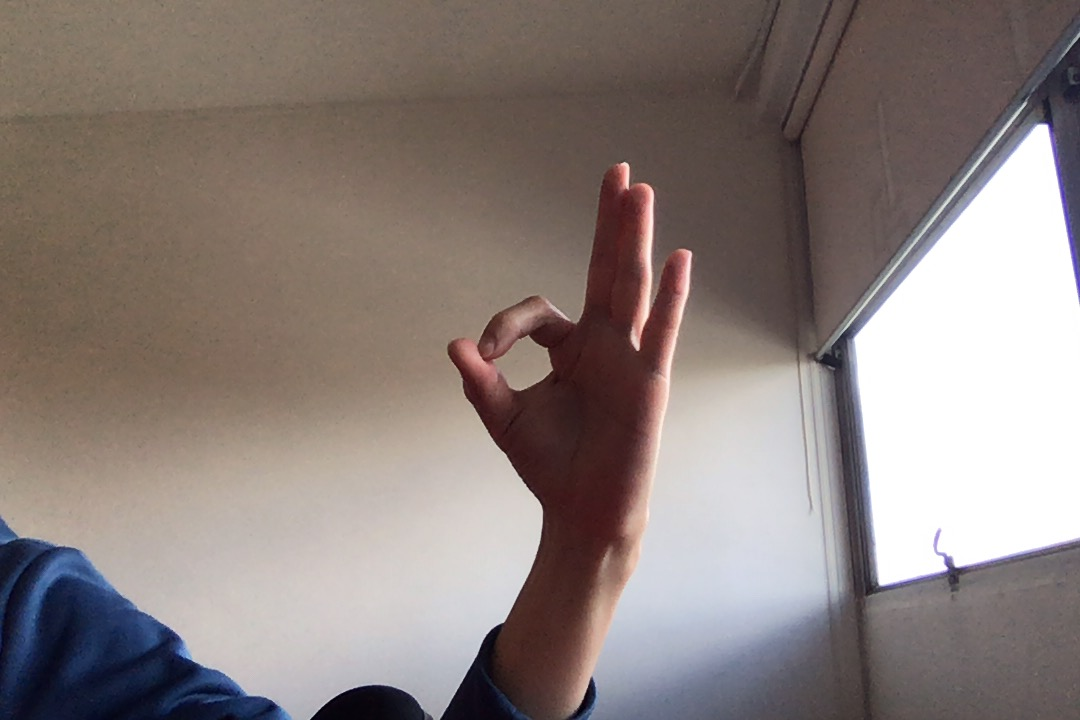oksign: (444, 153, 701, 555)
